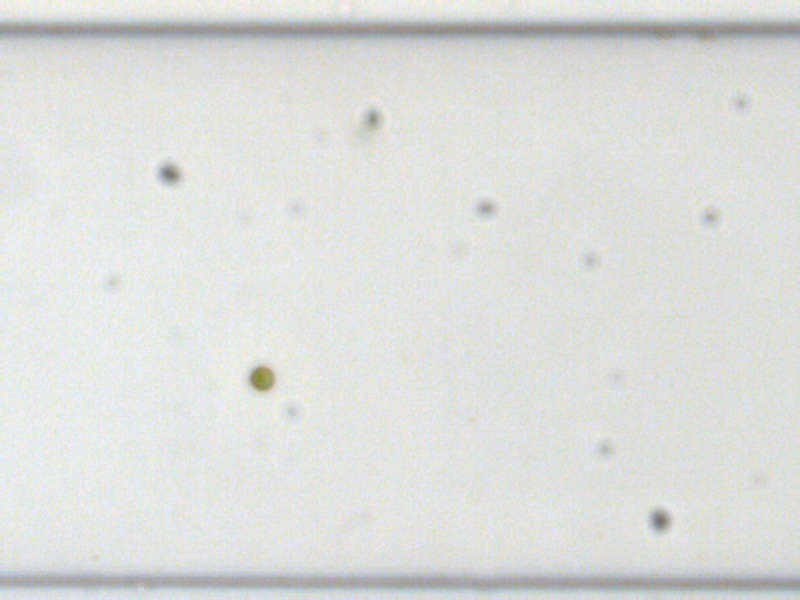Chlorella: (245, 365, 274, 389)
